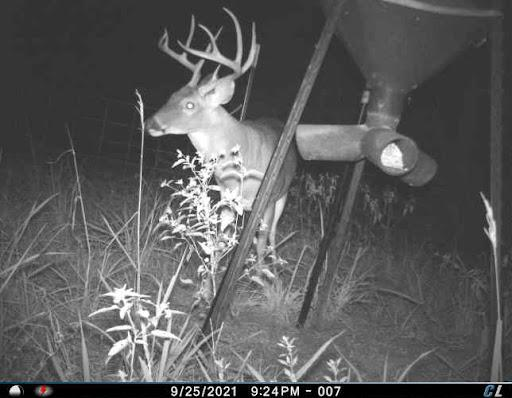Deer: (140, 1, 299, 298)
